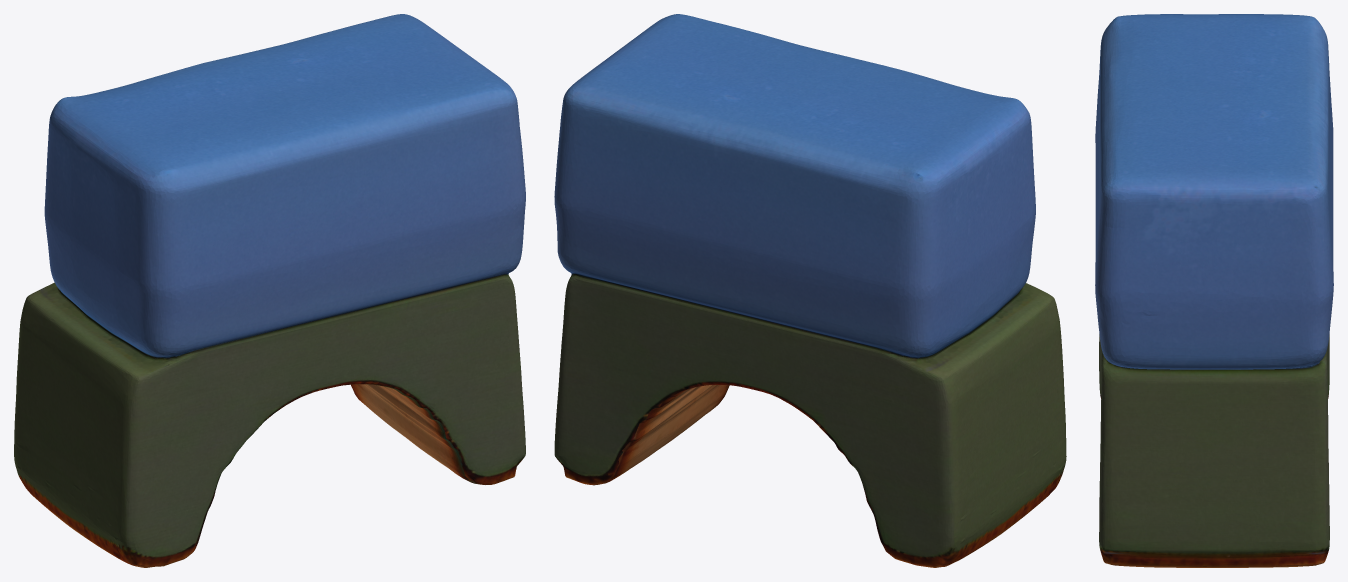
File: image_0000_segmented.glb
The picture shows the model from 3 angles, left to right: view 1: azimuth 30°, elevation 25°; view 2: azimuth 150°, elevation 25°; view 3: azimuth 270°, elevation 25°; orthographic projection.
Parts seen in each view (by area): view 1: tmpomth2qq9.ply; view 2: tmpomth2qq9.ply; view 3: tmpomth2qq9.ply.
Boxes of the visible parts, x1,y1,x2,y2 form: tmpomth2qq9.ply: (14,14,525,567); tmpomth2qq9.ply: (554,14,1066,567); tmpomth2qq9.ply: (1095,14,1333,567).
Size of the model in its own units: 1.99 by 1.86 by 1.03.
Materials: 1 (1 with a texture image).
